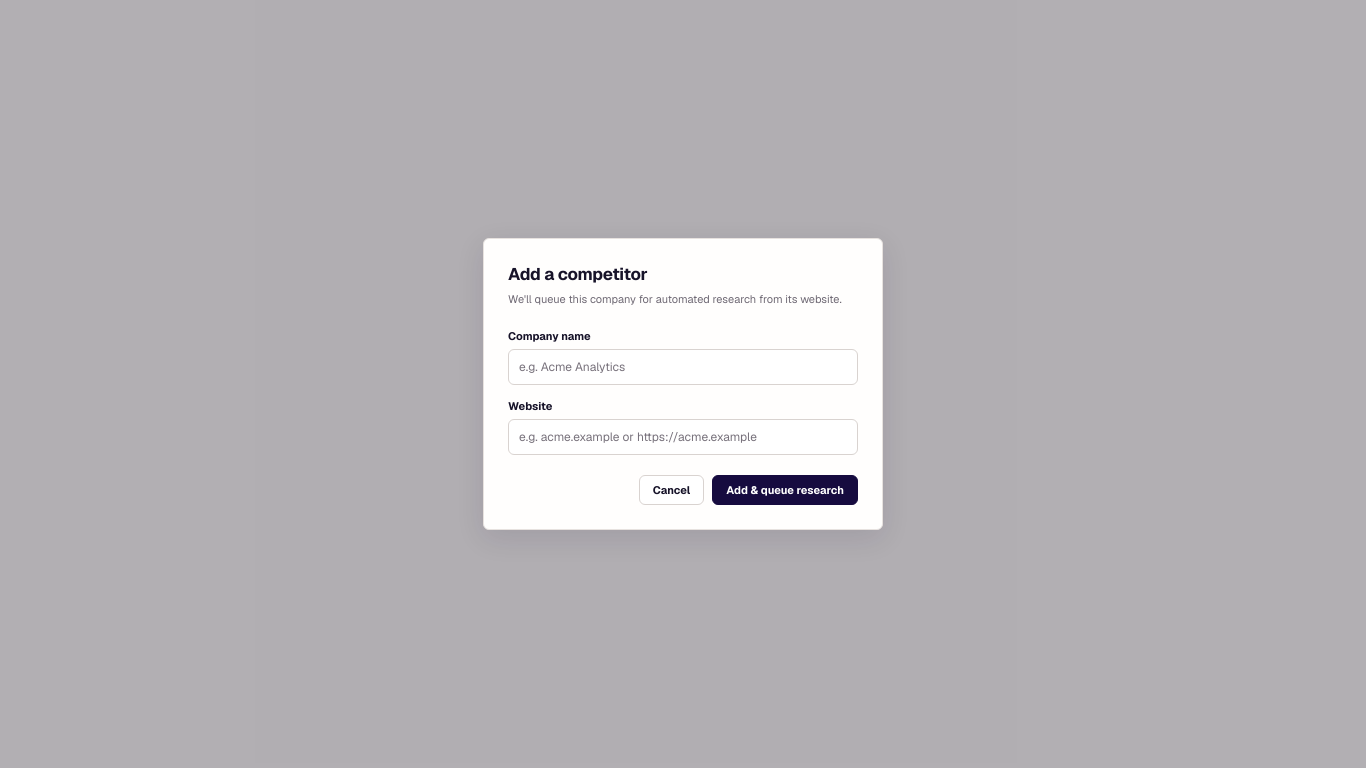
Test: AddCompetitorModal › sends a normalized website, closes and confirms the competitor was queued
Step 1. Type "  Acme " into the field labelled "Company name" → (683, 367), box [508,349,858,385]
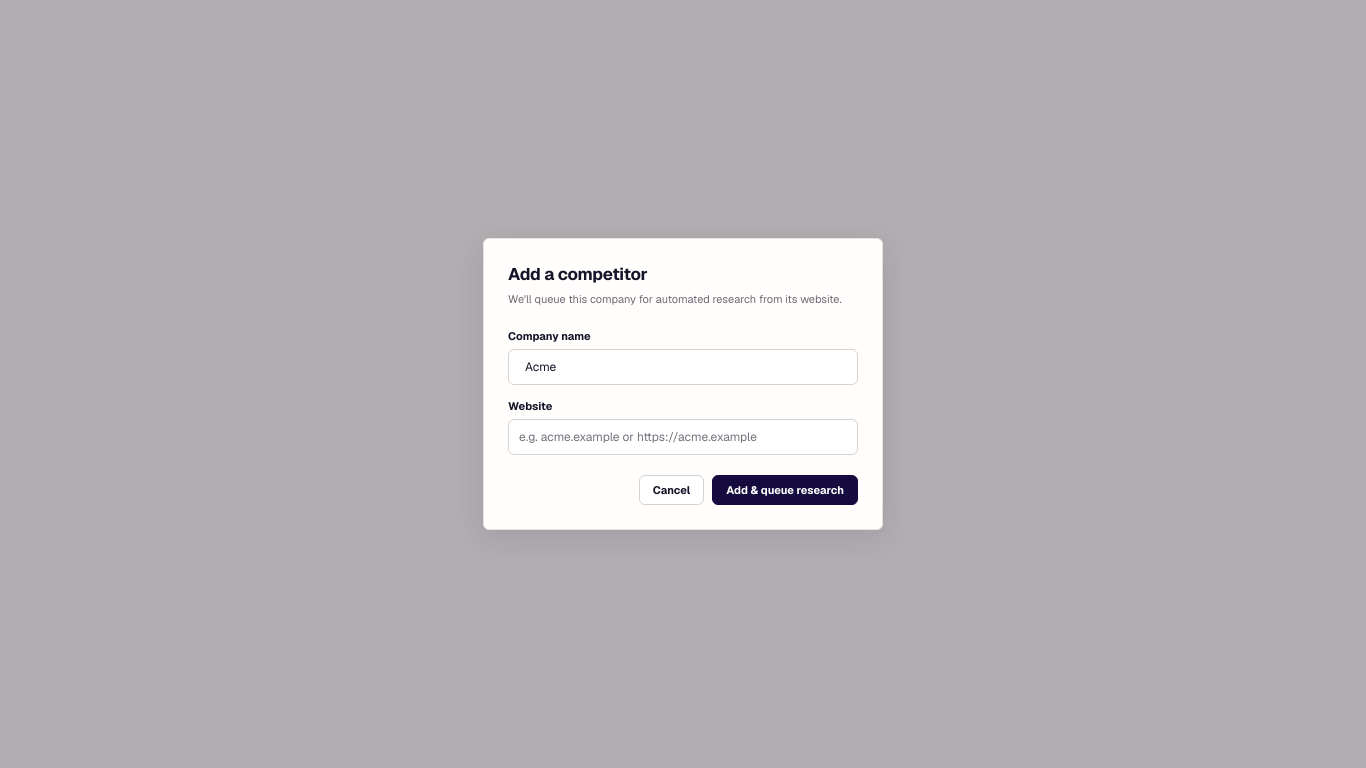
Step 2. Type "acme.example" into the field labelled "Website" → (683, 437), box [508,419,858,455]
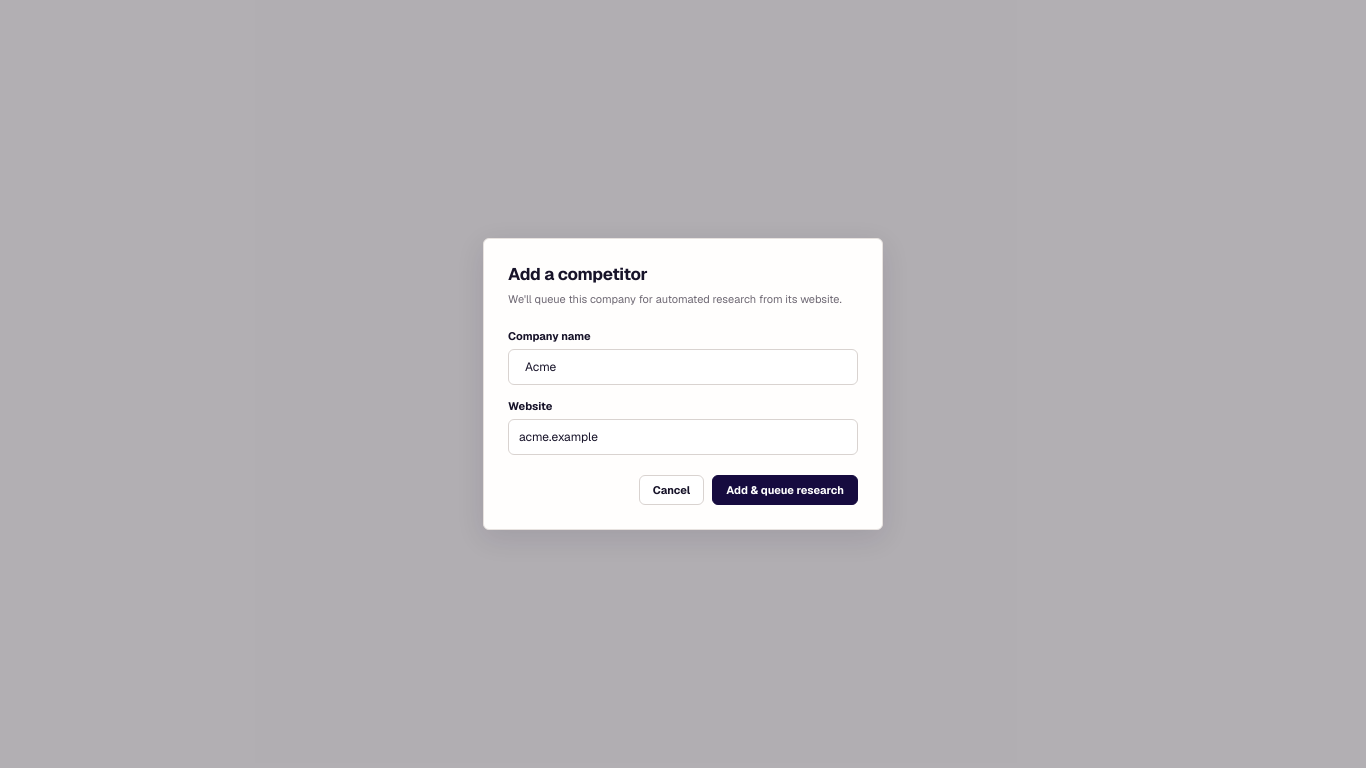
Step 3. Click the button "Add & queue research" → (785, 490), box [712,475,858,505]
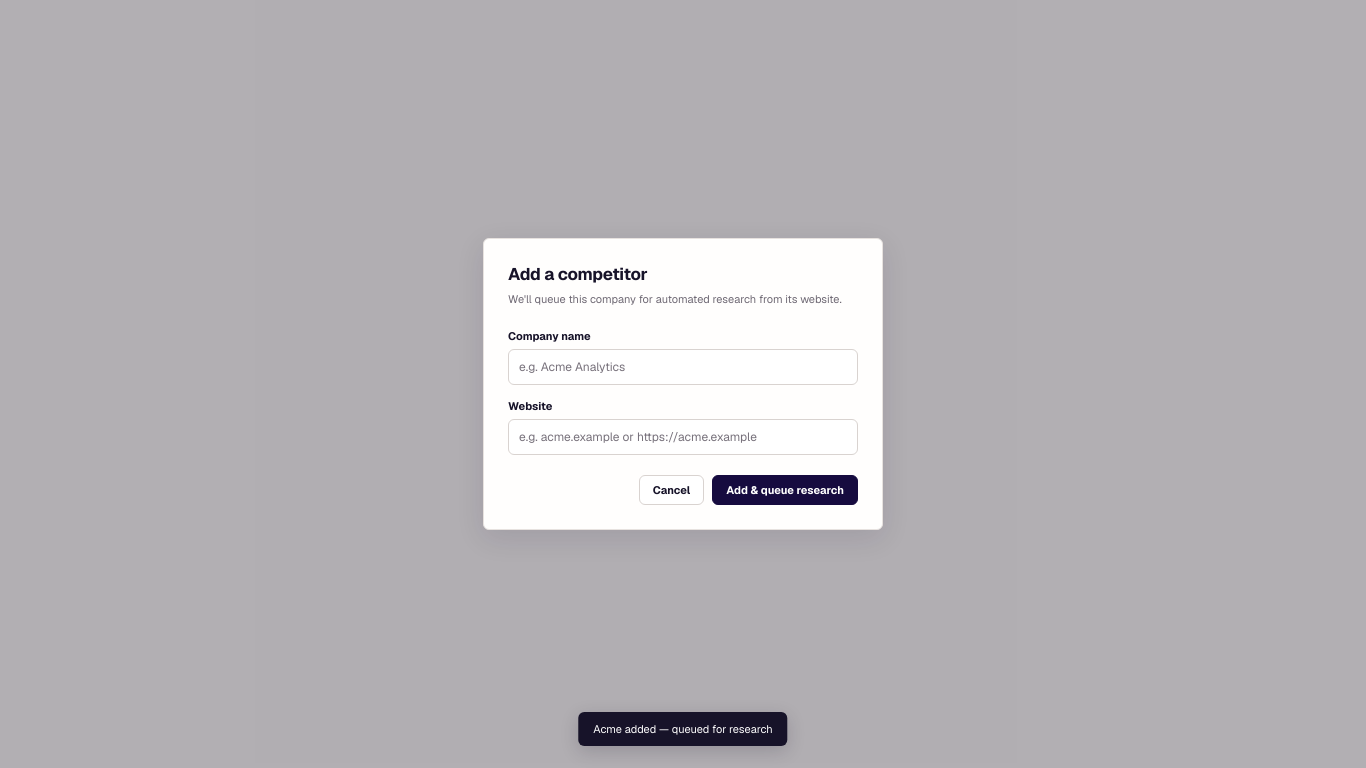
Expected: the text "Acme added — queued for research" is shown, [578,712,788,746]
